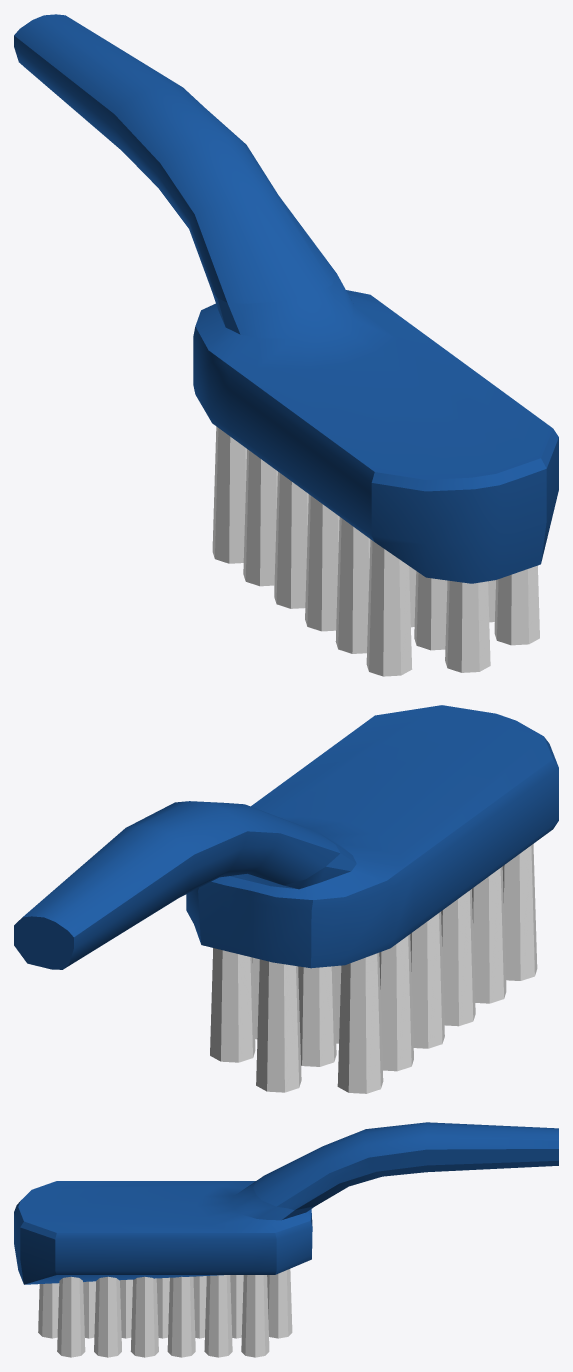
File: Carbrush.fbx
3 renders of one model, top to bottom at view 1: azimuth 30°, elevation 25°; view 2: azimuth 150°, elevation 25°; view 3: azimuth 270°, elevation 25°, orthographic. The views are drawn at different scales.
Parts seen in each view (by area): view 1: Toothbrush; view 2: Toothbrush; view 3: Toothbrush.
Part boxes in pixels (x1,y1,x2,y2): Toothbrush: [14, 14, 558, 676]; Toothbrush: [14, 705, 558, 1093]; Toothbrush: [14, 1122, 558, 1357].
Size of the model in its own units: 59.21 by 105 by 250.
